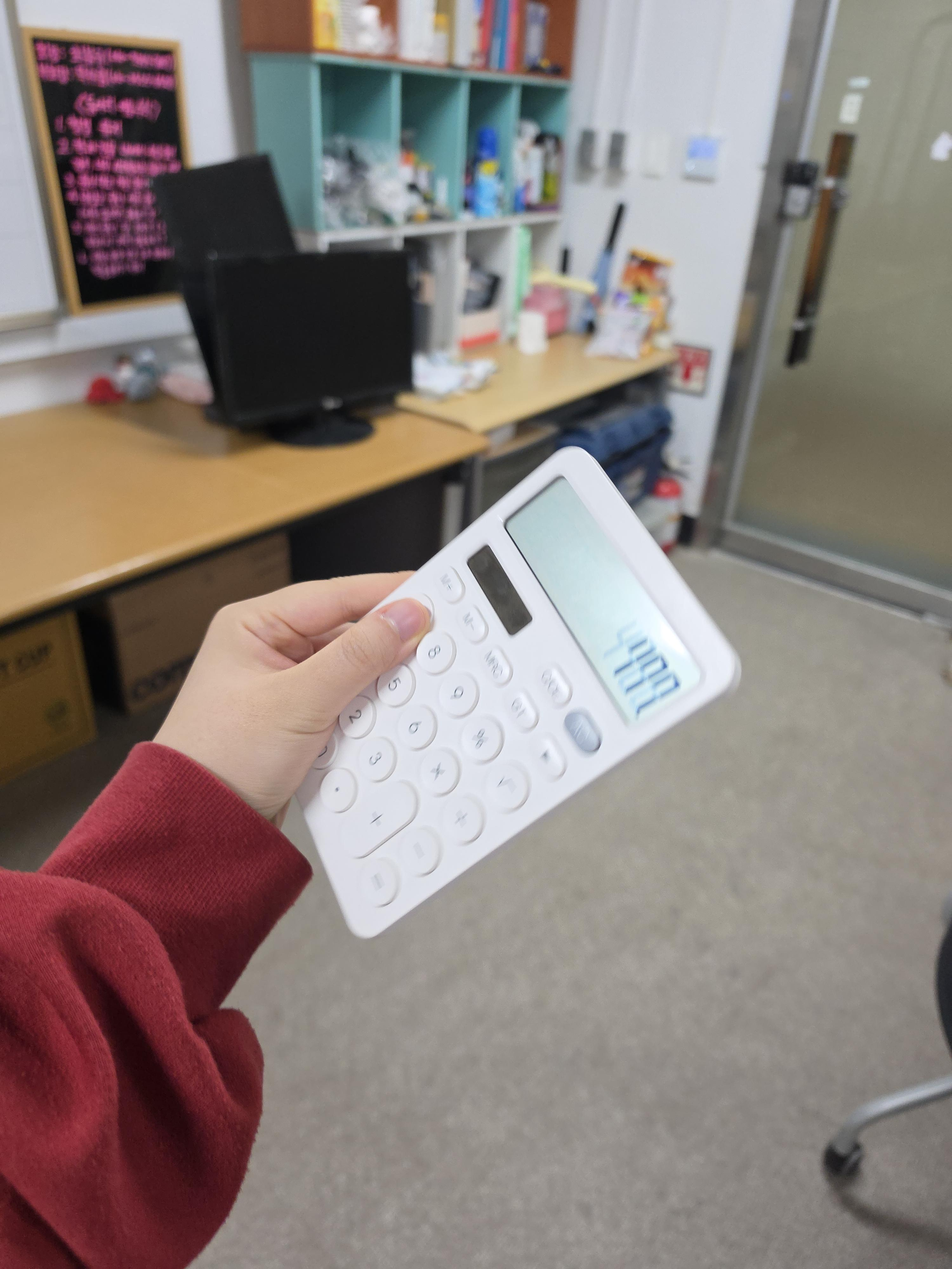calculator: (296, 446, 743, 941)
